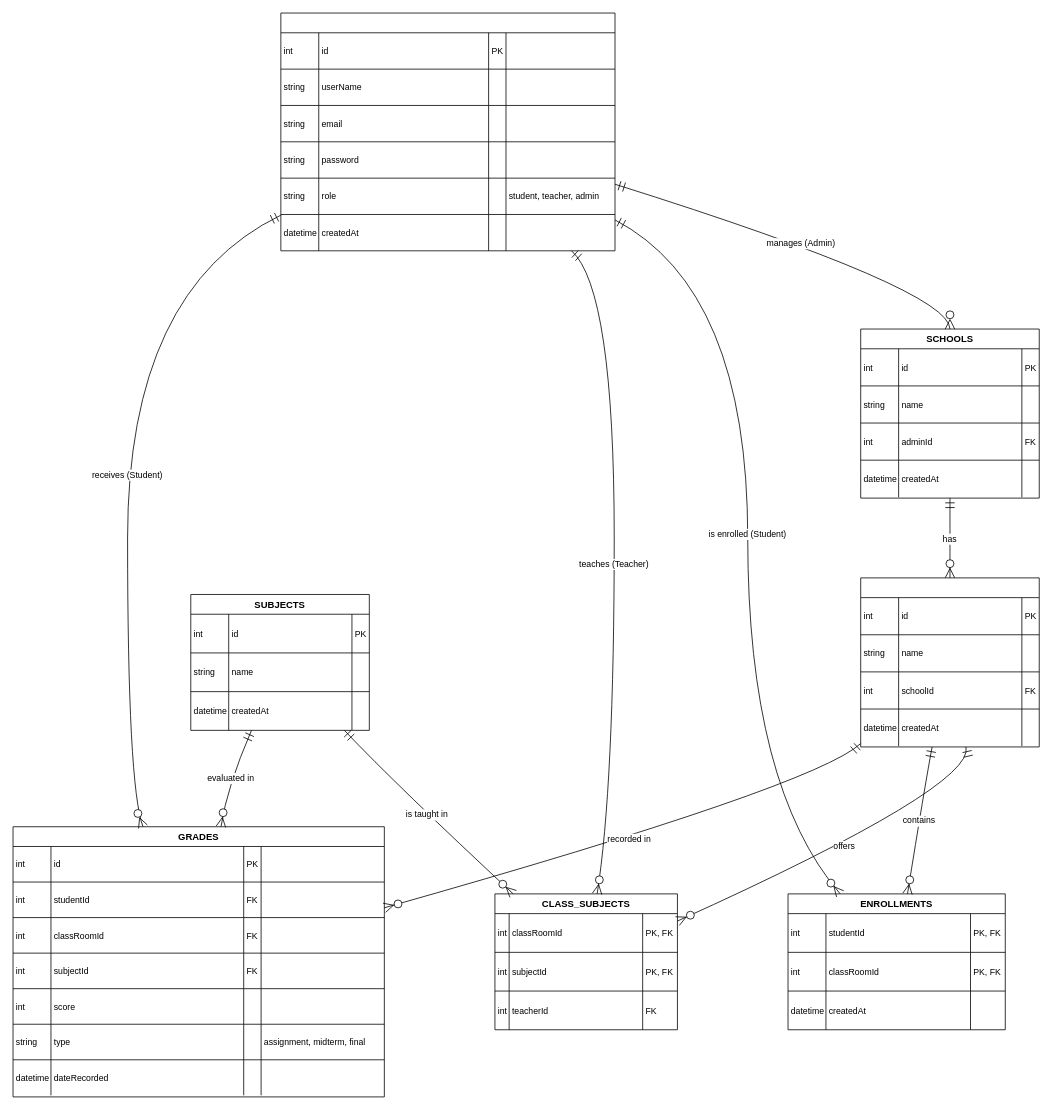
The diagram is 1052 pixels wide and 1110 high, and some of its shapes have lost their labels. The shapes that lost their labels are listed below. From the top down, each one's box as (x1, y1, x2, y2) in pixels, then its label:
(280, 12, 615, 251): USERS
(860, 577, 1039, 747): CLASSROOMS
